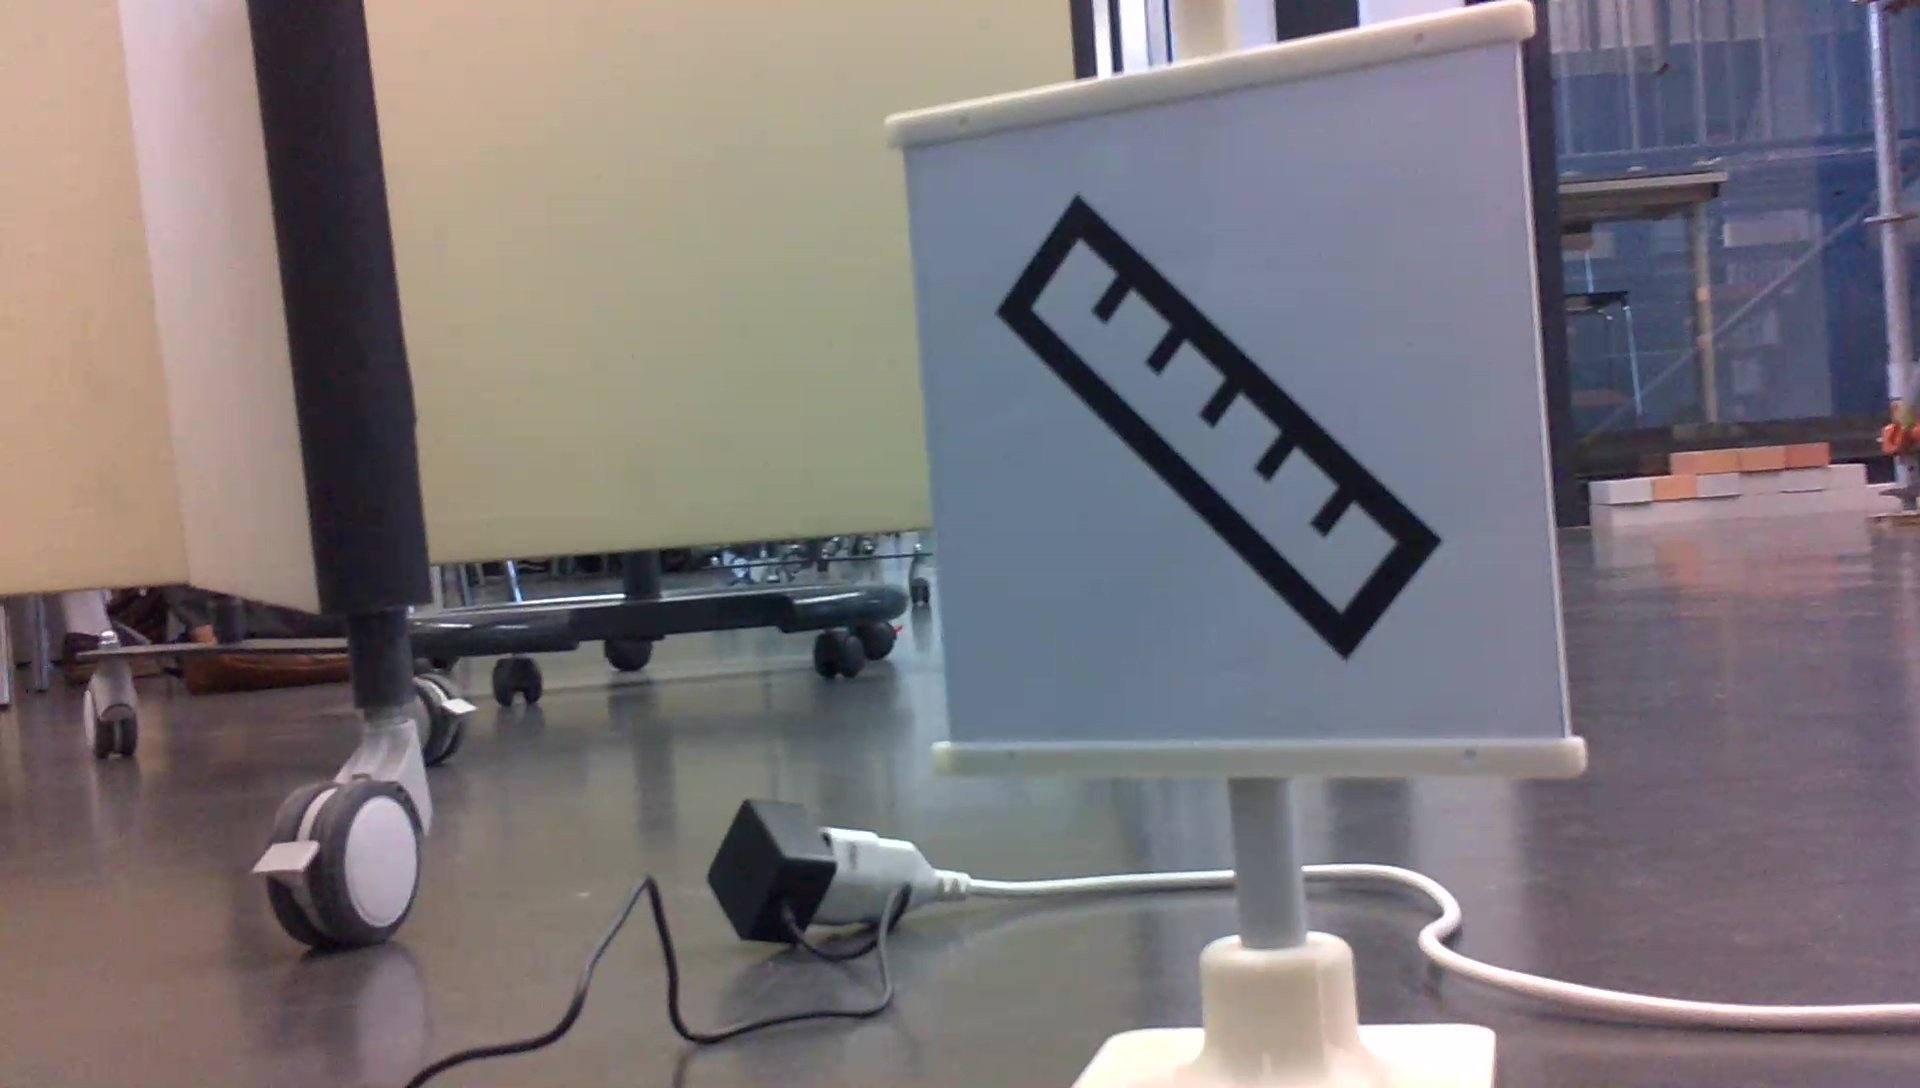ruler: (990, 171, 1448, 665)
